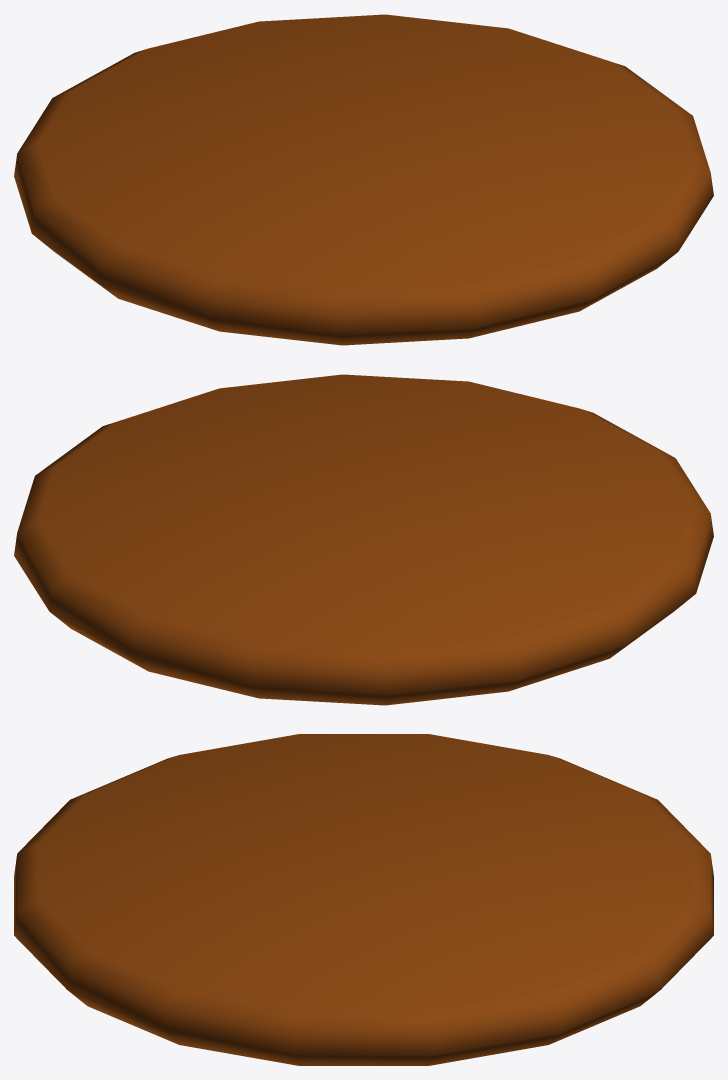
File: котлета.fbx
The picture shows the model from 3 angles, top to bottom: view 1: azimuth 30°, elevation 25°; view 2: azimuth 150°, elevation 25°; view 3: azimuth 270°, elevation 25°; orthographic projection.
Visible parts, largest first — view 1: котлета; view 2: котлета; view 3: котлета.
Part boxes in pixels (x1,y1,x2,y2): котлета: (14,14,713,345); котлета: (14,374,713,705); котлета: (14,734,713,1065).
Size of the model in its own units: 15.83 by 1.41 by 15.83.
